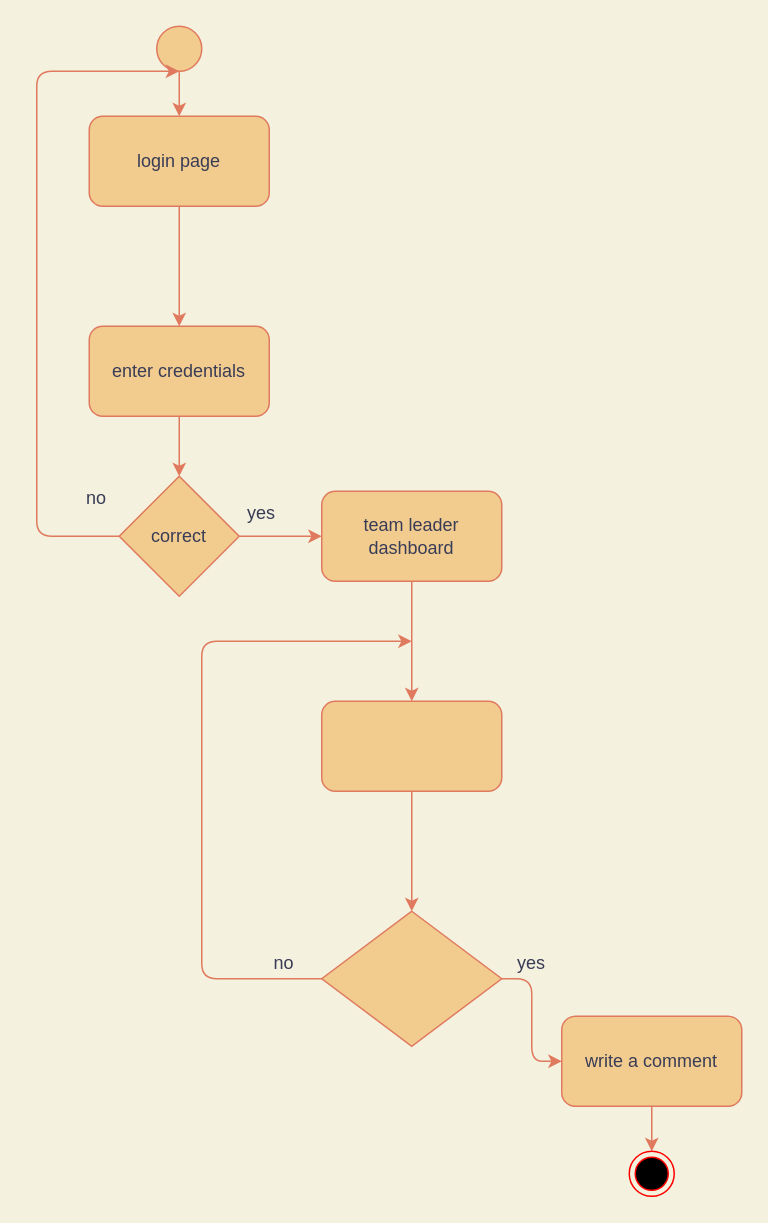
Some shapes in this 768 by 1223 pixel diagram are drawn without their labels. Each missing label, with the centre of its shape:
"access announcement" goes at point 411,745.
"leave a comment" goes at point 411,978.
